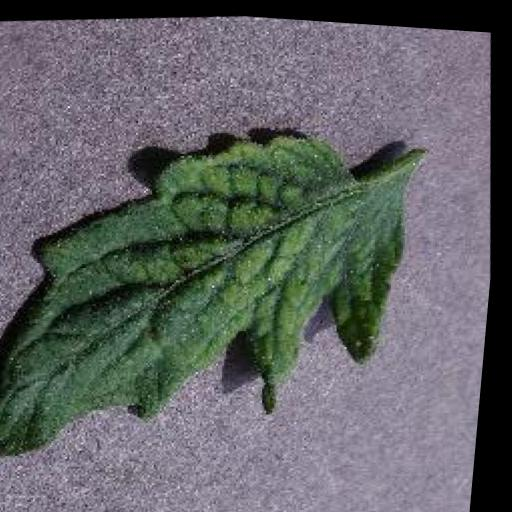Mosaic Virus: (0, 99, 430, 480)
